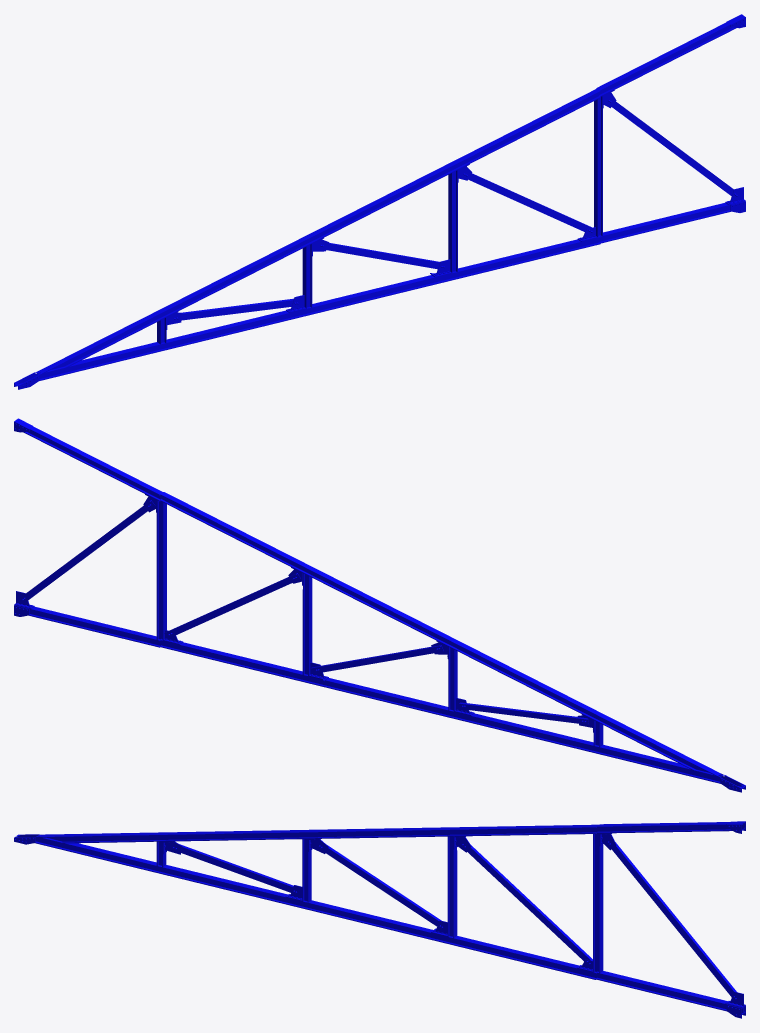
The model's file is Structure02_Roof06.fbx.
3 views of the same model, one above another, from view 1: azimuth 30°, elevation 25°; view 2: azimuth 150°, elevation 25°; view 3: azimuth 330°, elevation 25° (orthographic).
Parts seen in each view (by area): view 1: Structure02_Roof06_LOD0; view 2: Structure02_Roof06_LOD0; view 3: Structure02_Roof06_LOD0.
Part boxes in pixels (x1,y1,x2,y2): Structure02_Roof06_LOD0: (14,14,745,389); Structure02_Roof06_LOD0: (14,418,745,792); Structure02_Roof06_LOD0: (14,821,745,1018).
Size of what is drawn, in the model's own units: 1500 by 383 by 22.25.
